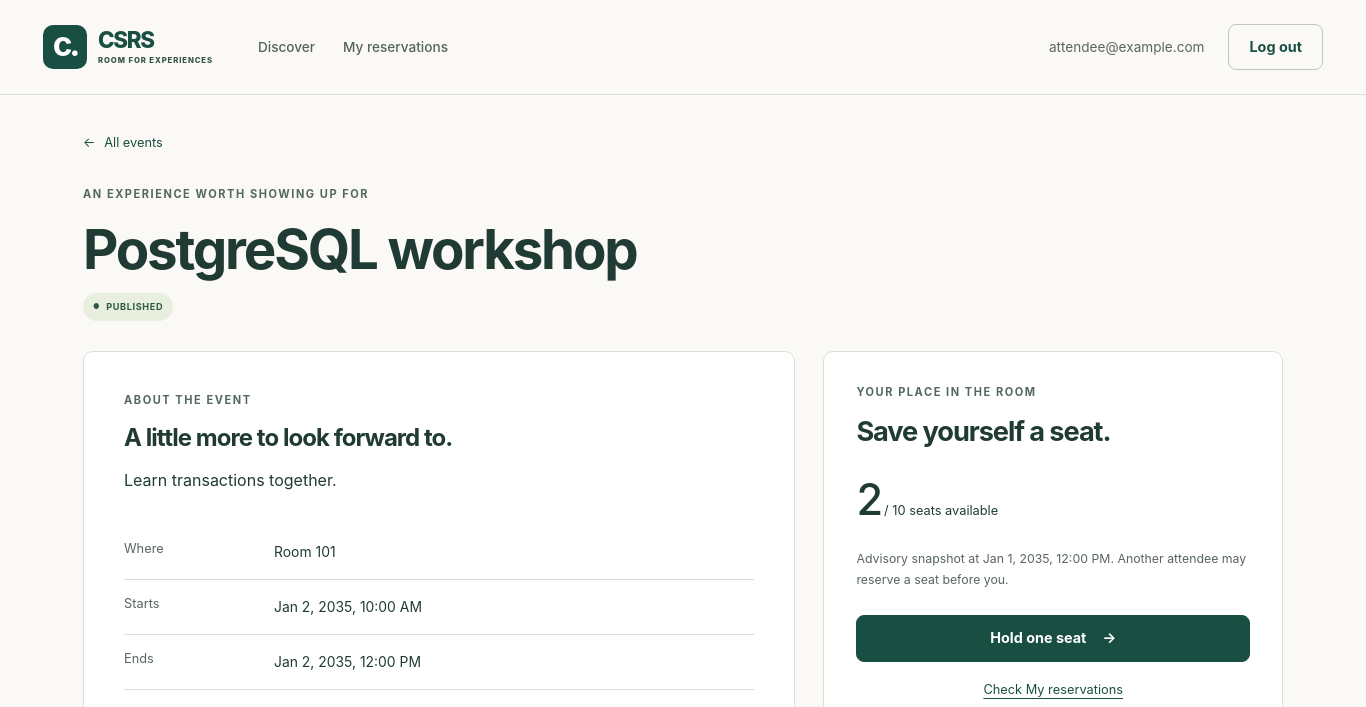
it: events and reservation workflows › shows useful final-seat contention feedback
This screenshot has width=1366, height=707.
Click the button "Hold one seat →".
click(1053, 638)  # box 856,615 -> 1250,662
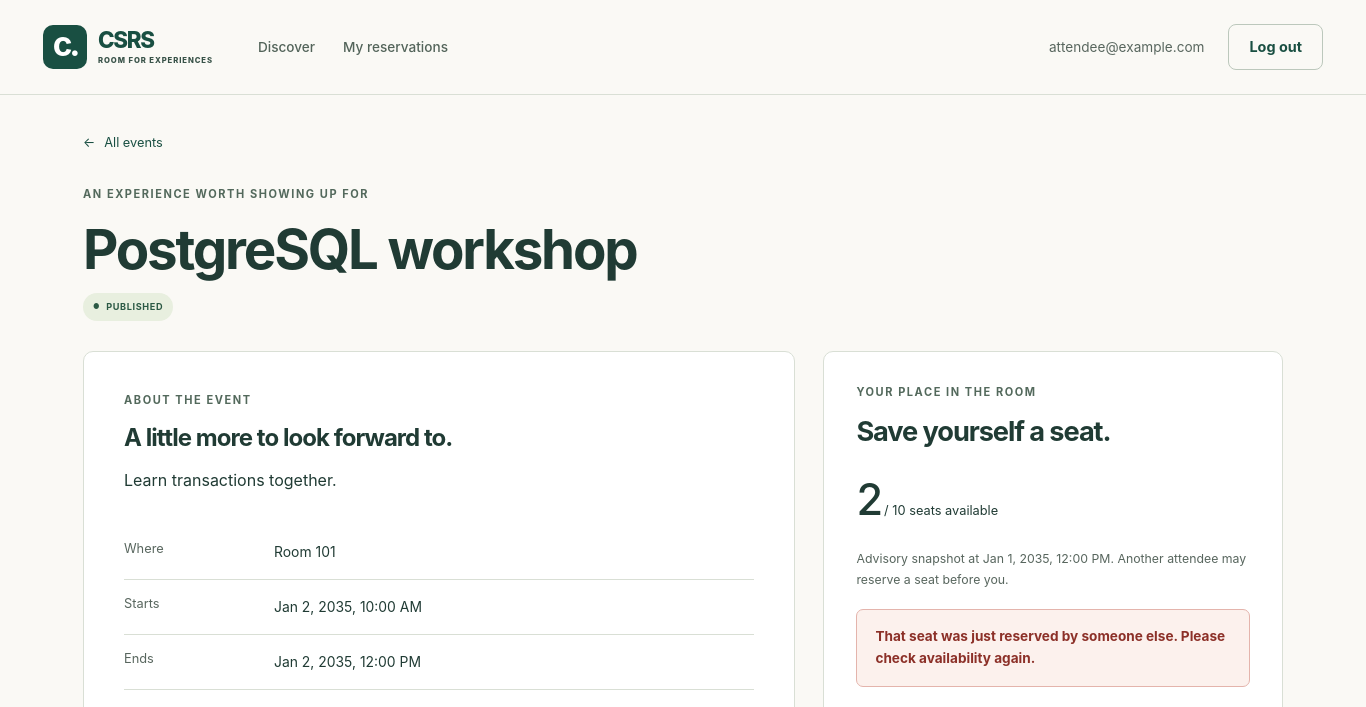
expect the text "That seat was just reserved by someone else" is shown: met, box 875,628 -> 1225,666
